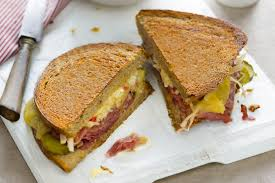sandwich: (126, 1, 274, 139), (20, 35, 157, 175)
